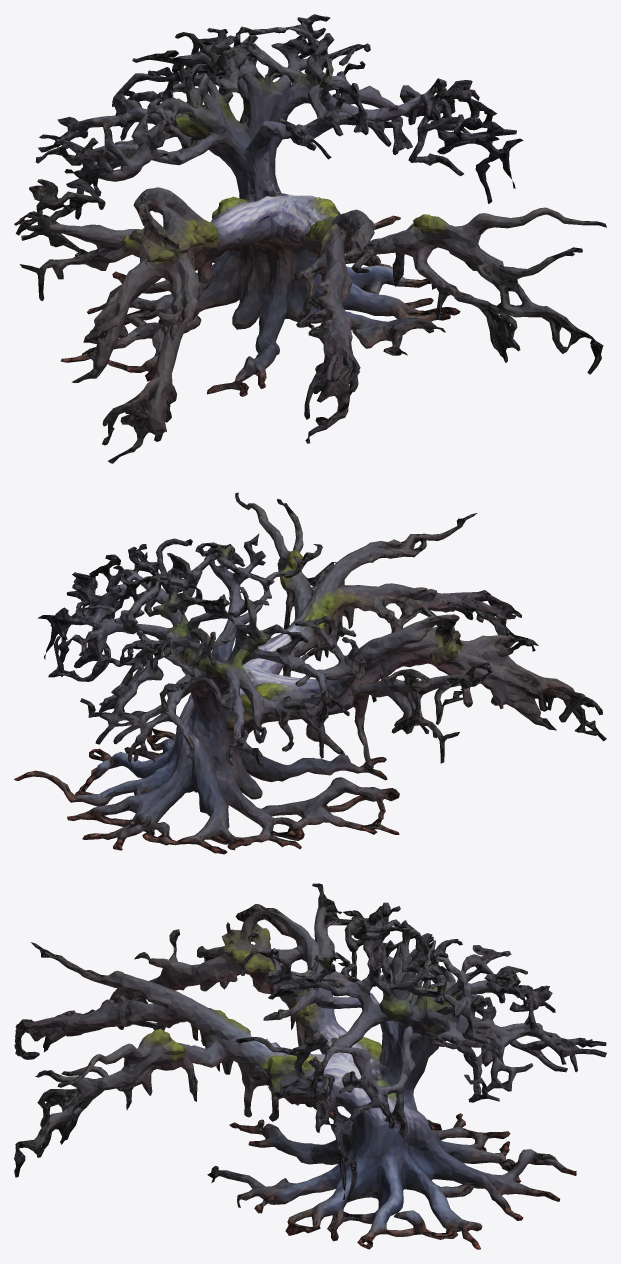
Rendered from tree dead lians.glb.
3 views of the same model, one above another, from view 1: azimuth 30°, elevation 25°; view 2: azimuth 150°, elevation 25°; view 3: azimuth 270°, elevation 25° (orthographic). The views are drawn at different scales.
Parts seen in each view (by area): view 1: world; view 2: world; view 3: world.
Boxes of the visible parts, left/top/right/bottom form: world: left=14, top=14, right=606, bottom=463; world: left=14, top=492, right=606, bottom=854; world: left=14, top=883, right=606, bottom=1249.
Bounding box in the file's own units: 0.9444 × 0.4601 × 0.9957.
1 material, 1 textured.
